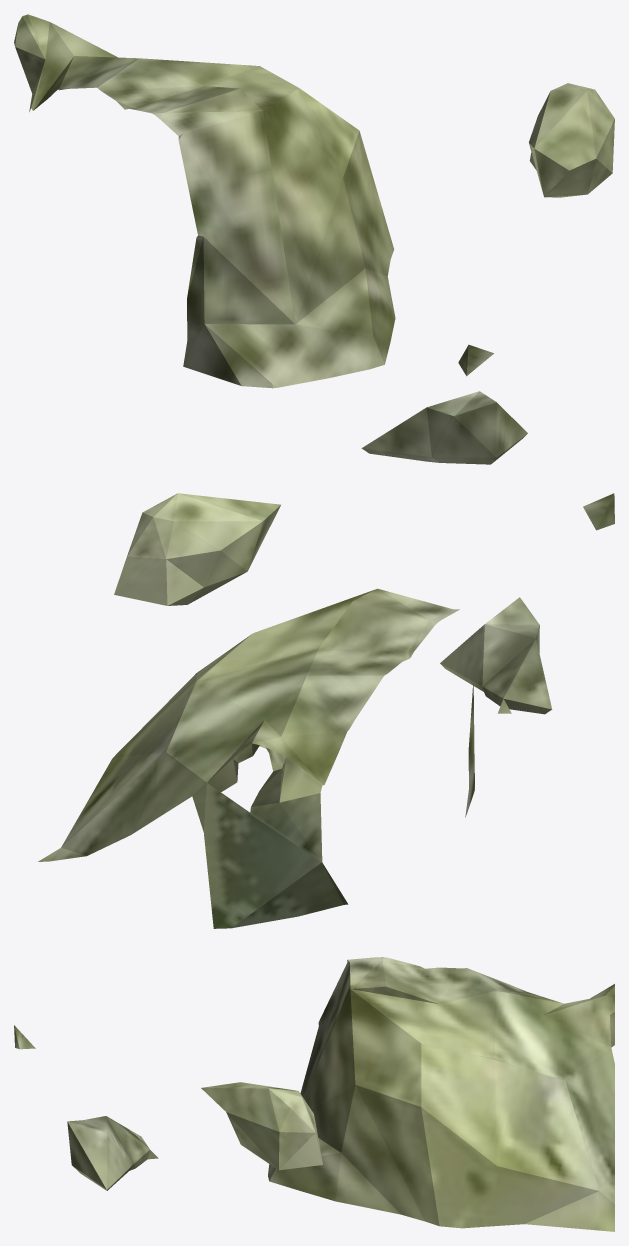
3 views of the same model, one above another, from view 1: azimuth 30°, elevation 25°; view 2: azimuth 150°, elevation 25°; view 3: azimuth 270°, elevation 25° (orthographic). The views are drawn at different scales.
Bounding box in the file's own units: 1.46 × 0.8352 × 2.65.
Materials: 1 (1 with a texture image).
